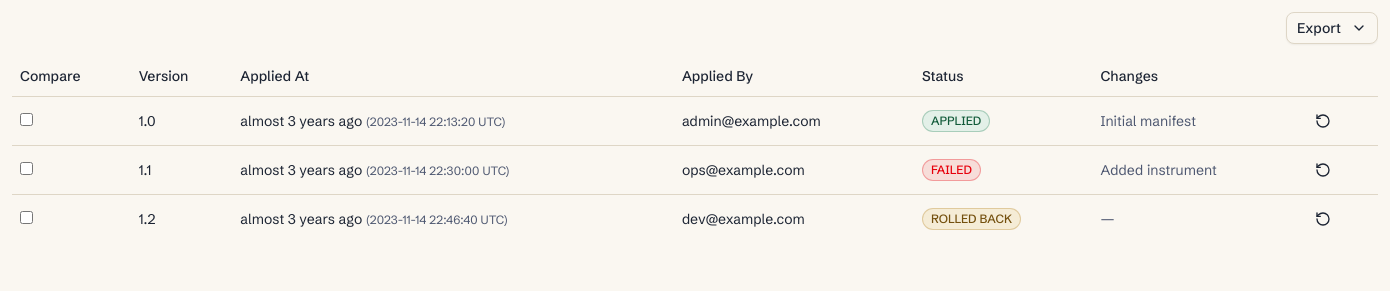
ManifestHistoryTable › shows compare toolbar when versions are selected
The width and height of the screenshot is (1390, 291).
What coordinates should you click on to do the following:
click the checkbox with test id "compare-checkbox-1.0"
I would click on:
 (26, 119)
Its box is [20,112,33,126].
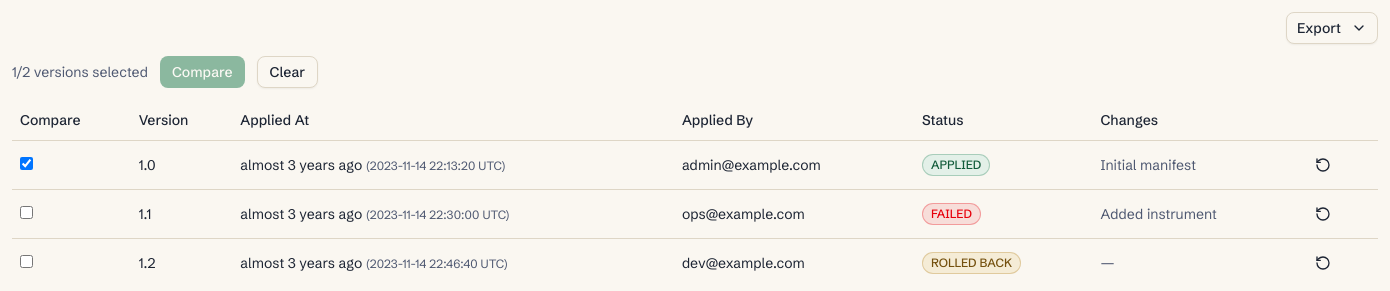
Now the element with test id "compare-toolbar" is shown, box [12,56,318,88]
Now the text "1/2 versions selected" is shown, box [12,62,148,82]
